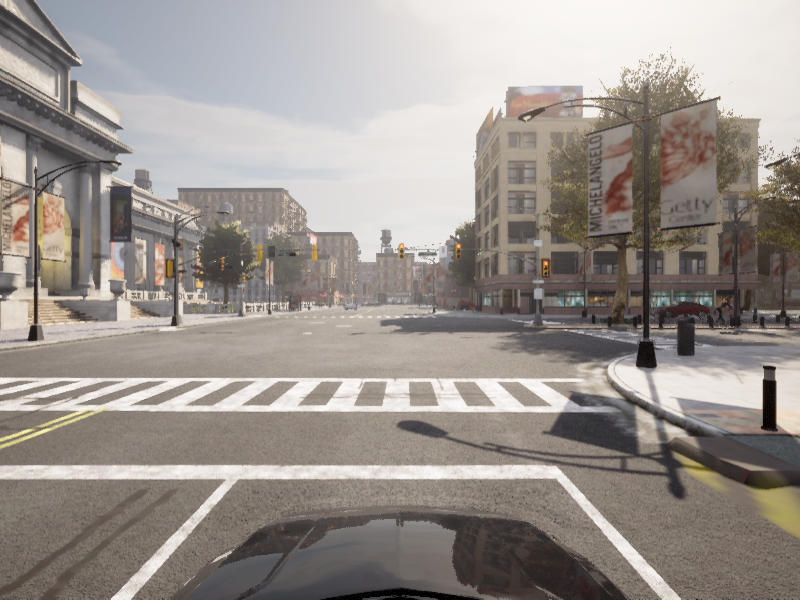vehicle: (646, 300, 714, 317), (706, 297, 743, 326)
